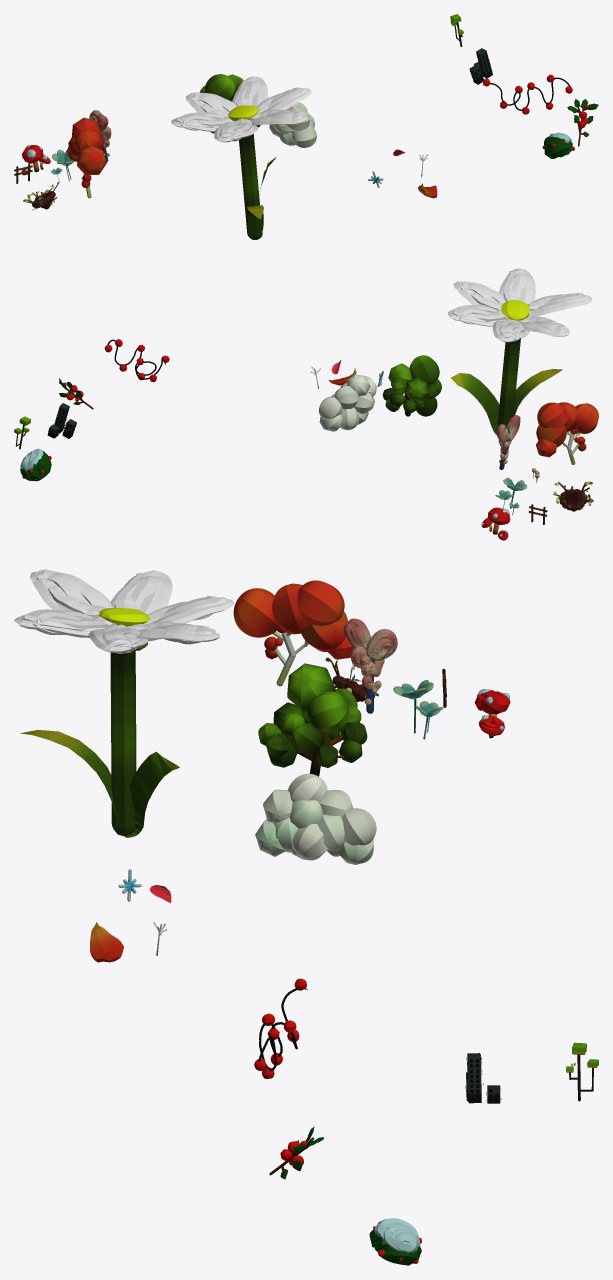
File: Assetsheidi.fbx
The picture shows the model from 3 angles, top to bottom: view 1: azimuth 30°, elevation 25°; view 2: azimuth 150°, elevation 25°; view 3: azimuth 270°, elevation 25°; orthographic projection. The views are drawn at different scales.
Visible parts, largest first — view 1: Fllowee, Lleafwhhi, Cloud, NewLayer0, Guirlande, Bushwinter, Building, Houx, Nessst, Ciuperci, Treehighbubble, trefle; view 2: Fllowee, NewLayer0, Lleafwhhi, Cloud, Nessst, Bushwinter, Treehighbubble, Guirlande, Building, Ciuperci, trefle; view 3: Fllowee, Cloud, NewLayer0, Lleafwhhi, Treehighbubble, Bushwinter, Guirlande, Nessst, Ciuperci, Building, Leaf, trefle.
Part boxes in pixels (<box>): Fllowee: <box>171,76,311,239</box>; Lleafwhhi: <box>67,117,106,187</box>; Cloud: <box>269,102,316,147</box>; NewLayer0: <box>200,74,243,133</box>; Guirlande: <box>482,74,572,114</box>; Bushwinter: <box>542,132,574,158</box>; Building: <box>469,48,492,84</box>; Houx: <box>567,99,598,146</box>; Nessst: <box>23,181,91,210</box>; Ciuperci: <box>21,145,50,175</box>; Treehighbubble: <box>89,110,111,161</box>; trefle: <box>51,149,74,181</box>; Fllowee: <box>447,268,591,436</box>; NewLayer0: <box>382,355,441,416</box>; Lleafwhhi: <box>536,402,598,457</box>; Cloud: <box>319,374,376,431</box>; Nessst: <box>553,431,593,511</box>; Bushwinter: <box>20,448,51,481</box>; Treehighbubble: <box>496,415,520,469</box>; Guirlande: <box>104,339,169,381</box>; Building: <box>47,403,76,438</box>; Ciuperci: <box>481,507,510,540</box>; trefle: <box>495,477,527,515</box>; Fllowee: <box>14,569,234,837</box>; Cloud: <box>255,773,376,864</box>; NewLayer0: <box>258,663,367,776</box>; Lleafwhhi: <box>233,580,353,659</box>; Treehighbubble: <box>343,618,397,713</box>; Bushwinter: <box>369,1218,421,1265</box>; Guirlande: <box>254,978,307,1078</box>; Nessst: <box>272,631,381,701</box>; Ciuperci: <box>474,689,510,738</box>; Building: <box>465,1053,501,1103</box>; Leaf: <box>90,922,123,962</box>; trefle: <box>393,680,443,739</box>.
Size of the model in its own units: 6.02 by 2.23 by 3.36.
